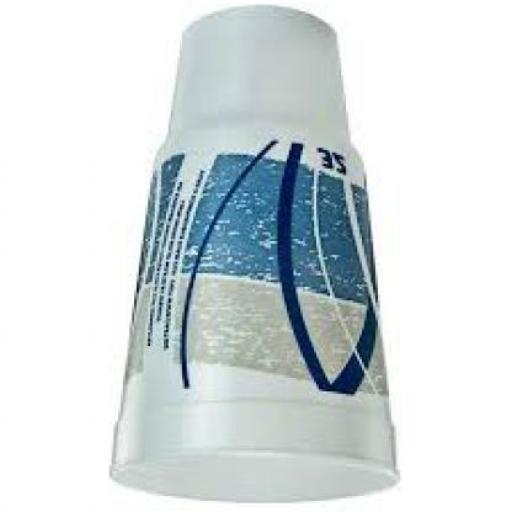paper: (107, 2, 394, 504)
